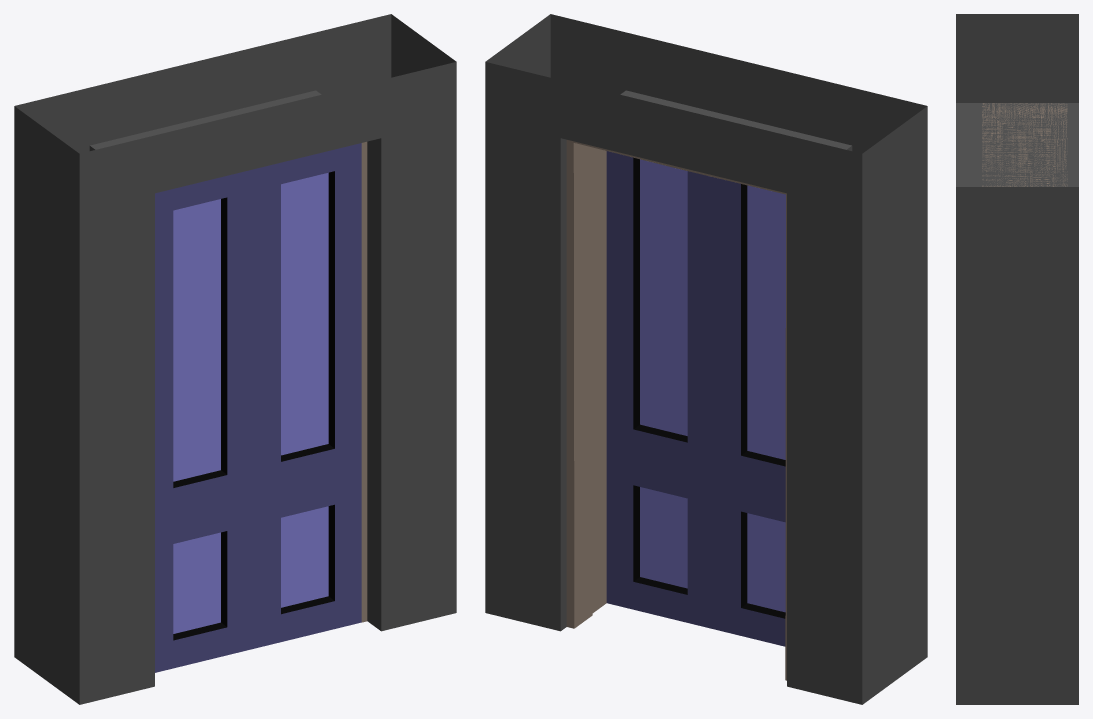
Rendered from door.glb.
The picture shows the model from 3 angles, left to right: view 1: azimuth 30°, elevation 25°; view 2: azimuth 150°, elevation 25°; view 3: azimuth 270°, elevation 25°; orthographic projection. The views are drawn at different scales.
Parts seen in each view (by area): view 1: Cube.010, Cube.012, Cube.011; view 2: Cube.010, Cube.012, Cube.011; view 3: Cube.010, Cube.011.
Part boxes in pixels (x1,y1,x2,y2): Cube.010: (14, 14, 456, 704); Cube.012: (155, 143, 361, 672); Cube.011: (361, 141, 367, 622); Cube.010: (485, 14, 927, 704); Cube.012: (606, 151, 785, 646); Cube.011: (566, 140, 786, 680); Cube.010: (956, 14, 1078, 704); Cube.011: (982, 103, 1067, 186).
Size of the model in its own units: 126 by 176 by 37.81.
